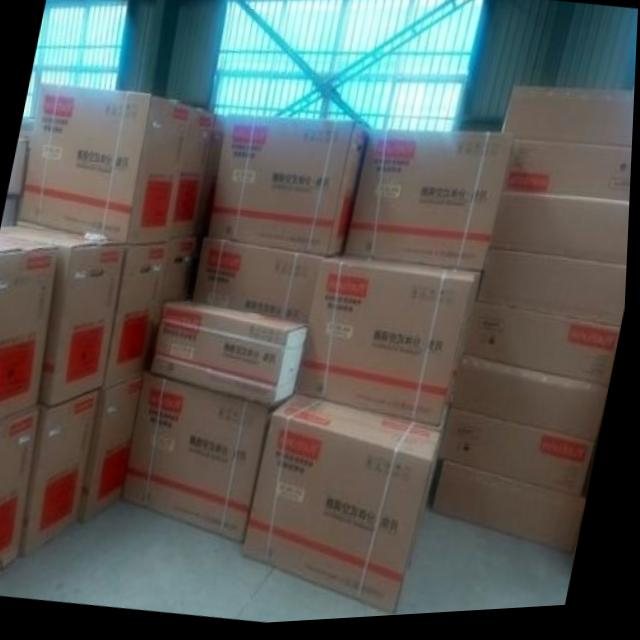box: (246, 399, 448, 618), (297, 258, 484, 431), (18, 83, 193, 246), (125, 375, 276, 546), (345, 134, 516, 278), (211, 118, 371, 263), (3, 222, 127, 408), (154, 303, 311, 412), (435, 467, 590, 562), (443, 415, 601, 505), (454, 360, 613, 449), (468, 307, 624, 394), (25, 393, 102, 560), (479, 252, 629, 334), (0, 227, 60, 421), (195, 239, 326, 326), (493, 197, 632, 274), (104, 242, 171, 393), (84, 375, 149, 525), (506, 147, 634, 213), (503, 91, 635, 154), (0, 405, 45, 576), (149, 235, 198, 376), (171, 110, 216, 242), (197, 117, 227, 238), (3, 138, 30, 227)
